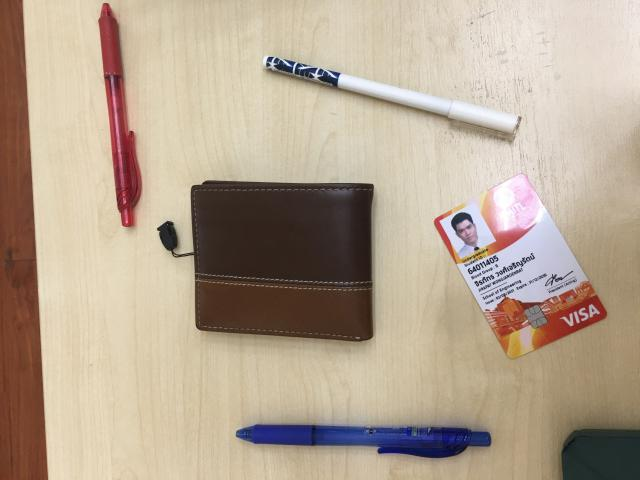Pen: (264, 58, 522, 137), (97, 4, 141, 228), (236, 424, 491, 458)
Wallet: (189, 182, 376, 343)
